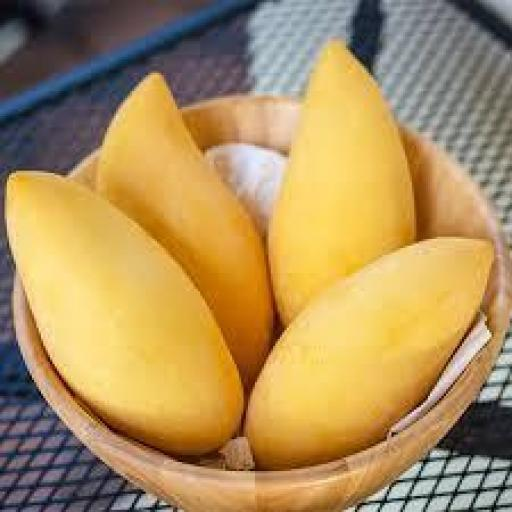mango: (7, 173, 243, 455), (246, 237, 493, 468), (96, 73, 273, 386), (269, 41, 416, 325)
